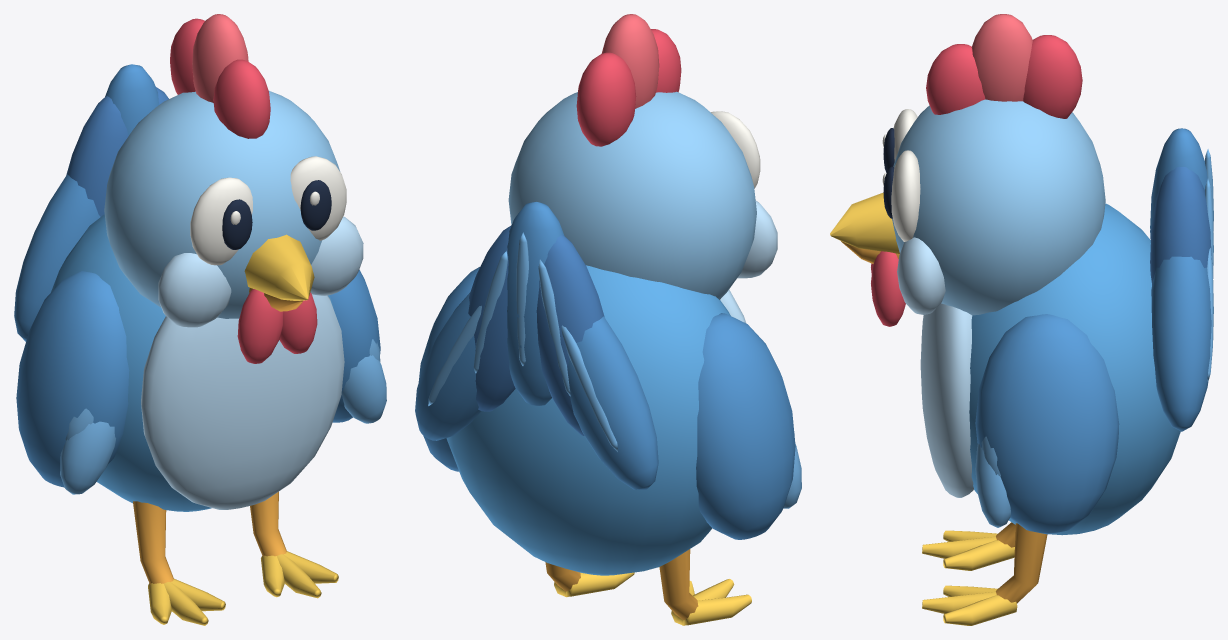
File: cojiro.glb
3 views of the same model, side by side, from view 1: azimuth 30°, elevation 25°; view 2: azimuth 150°, elevation 25°; view 3: azimuth 270°, elevation 25° (orthographic). The views are drawn at different scales.
Parts seen in each view (by area): view 1: Soft sky blue breast, Large friendly blue head, Rounded folded wing (×2), Upright blue tail feather (×3), Round blue cucco body, Rounded red comb lobe (×3), Soft cheek feather (×2), Wide white cucco eye (×2), Layered wing feather (×2), Rounded golden toe (×6), Small red wattle (×2), Short cucco shin (×2) (+2 smaller); view 2: Round blue cucco body, Large friendly blue head, Upright blue tail feather (×5), Rounded folded wing (×2), Rounded red comb lobe (×3), Tail feather ridge (×5), Short cucco shin (×2), Rounded golden toe (×2), Soft cheek feather, Wide white cucco eye, Layered wing feather; view 3: Large friendly blue head, Rounded folded wing, Round blue cucco body, Upright blue tail feather (×3), Rounded red comb lobe (×3), Soft sky blue breast, Rounded golden toe (×4), Soft cheek feather, Wide white cucco eye (×2), Golden upper beak, Short cucco shin, Small red wattle (+1 smaller).
Boxes of the visible parts, x1,y1,x2,y2 form: Soft sky blue breast: [141, 294, 344, 509]; Large friendly blue head: [104, 91, 340, 318]; Rounded folded wing (×2): [16, 269, 380, 487]; Upright blue tail feather (×3): [14, 64, 159, 341]; Round blue cucco body: [51, 214, 333, 511]; Rounded red comb lobe (×3): [170, 14, 270, 138]; Soft cheek feather (×2): [158, 216, 363, 327]; Wide white cucco eye (×2): [190, 156, 346, 265]; Layered wing feather (×2): [60, 355, 386, 494]; Rounded golden toe (×6): [148, 551, 338, 625]; Small red wattle (×2): [237, 289, 317, 363]; Short cucco shin (×2): [133, 491, 286, 584]; Round blue cucco body: [446, 265, 730, 575]; Large friendly blue head: [508, 91, 756, 299]; Upright blue tail feather (×5): [415, 202, 658, 489]; Rounded folded wing (×2): [418, 267, 795, 539]; Rounded red comb lobe (×3): [576, 14, 681, 146]; Tail feather ridge (×5): [428, 232, 617, 451]; Short cucco shin (×2): [545, 549, 698, 620]; Rounded golden toe (×2): [565, 572, 751, 625]; Soft cheek feather: [737, 200, 777, 278]; Wide white cucco eye: [711, 111, 760, 188]; Layered wing feather: [783, 444, 801, 508]; Large friendly blue head: [892, 99, 1105, 315]; Rounded folded wing: [975, 314, 1119, 534]; Round blue cucco body: [969, 203, 1180, 535]; Upright blue tail feather (×3): [1150, 128, 1212, 431]; Rounded red comb lobe (×3): [926, 14, 1082, 118]; Soft sky blue breast: [920, 303, 973, 497]; Rounded golden toe (×4): [922, 536, 1017, 625]; Soft cheek feather: [897, 237, 945, 314]; Wide white cucco eye (×2): [891, 109, 920, 241]; Golden upper beak: [830, 193, 899, 253]; Short cucco shin: [996, 523, 1047, 603]; Small red wattle: [871, 251, 905, 326].
Bounding box in the file's own units: 35.34 × 56.79 × 34.44.
